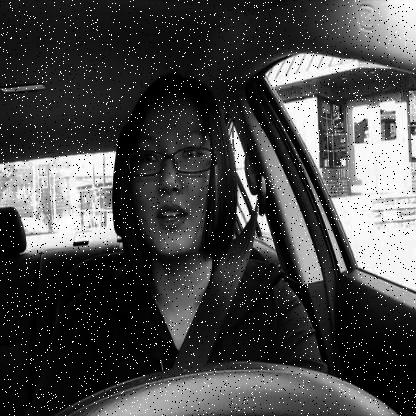seatbelt: (102, 62, 270, 396)
